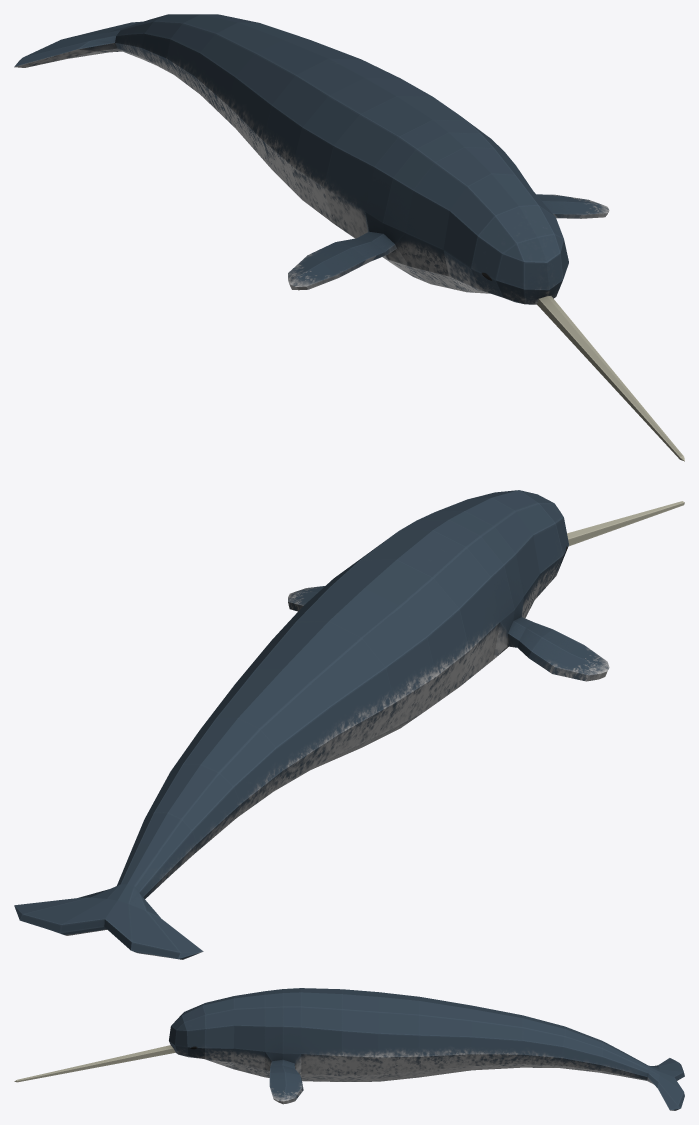
File: Narwhal.obj
3 views of the same model, one above another, from view 1: azimuth 30°, elevation 25°; view 2: azimuth 150°, elevation 25°; view 3: azimuth 270°, elevation 25° (orthographic). The views are drawn at different scales.
Parts seen in each view (by area): view 1: Narwhal_mesh; view 2: Narwhal_mesh; view 3: Narwhal_mesh.
Part boxes in pixels (x1=…): Narwhal_mesh: x1=14, y1=14, x2=684, y2=461; Narwhal_mesh: x1=14, y1=490, x2=684, y2=959; Narwhal_mesh: x1=14, y1=988, x2=684, y2=1110.
Bounding box in the file's own units: 5.05 × 2.62 × 16.22.
Materials: 1 (1 with a texture image).
